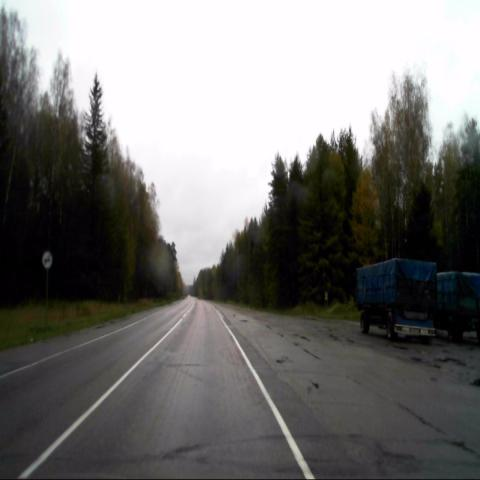3_21: (40, 250, 53, 270)
